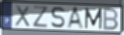A: (66, 6, 86, 31)
B: (102, 7, 120, 31)
M: (85, 7, 103, 30)
S: (51, 6, 66, 29)
X: (14, 4, 31, 28)
Z: (32, 5, 49, 29)
